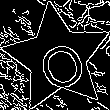O_NW: (27, 26, 88, 90)
